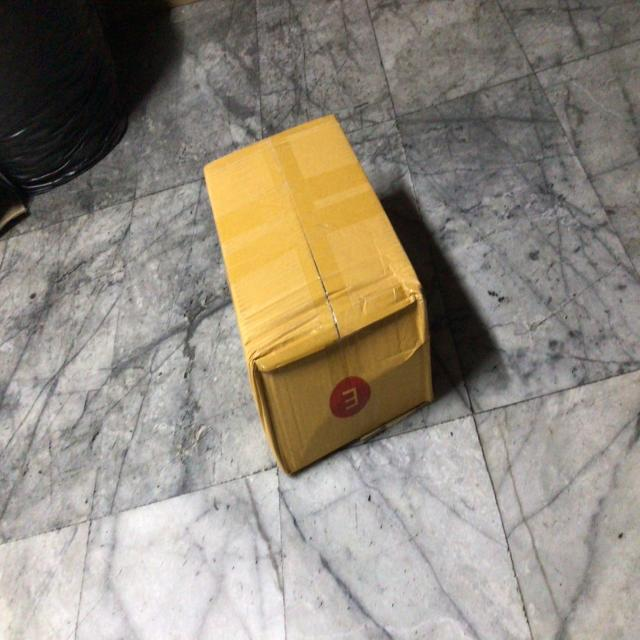cardboard: (202, 106, 438, 477)
